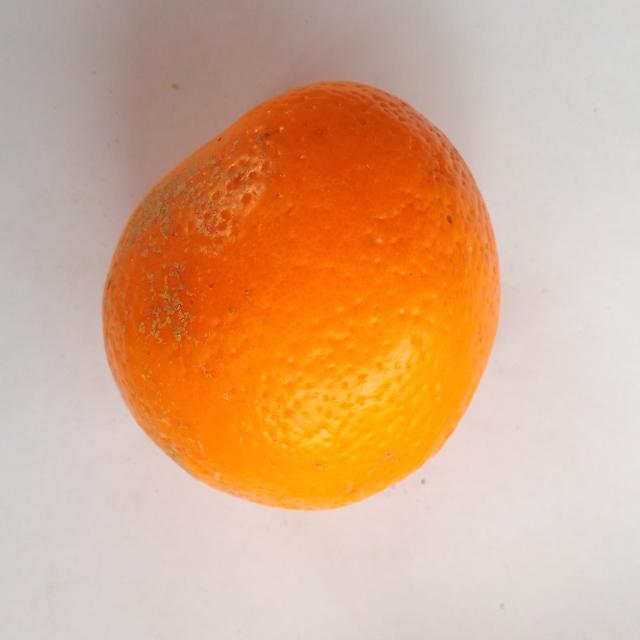orange: (104, 82, 499, 508)
